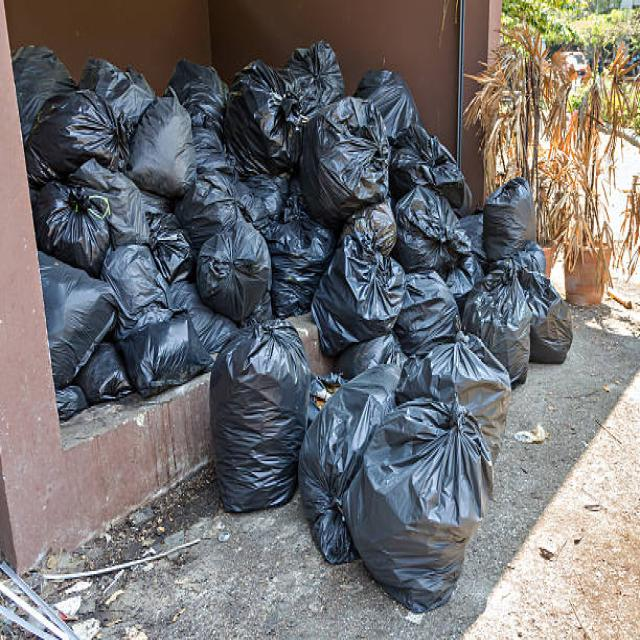garbage: (0, 12, 571, 604)
